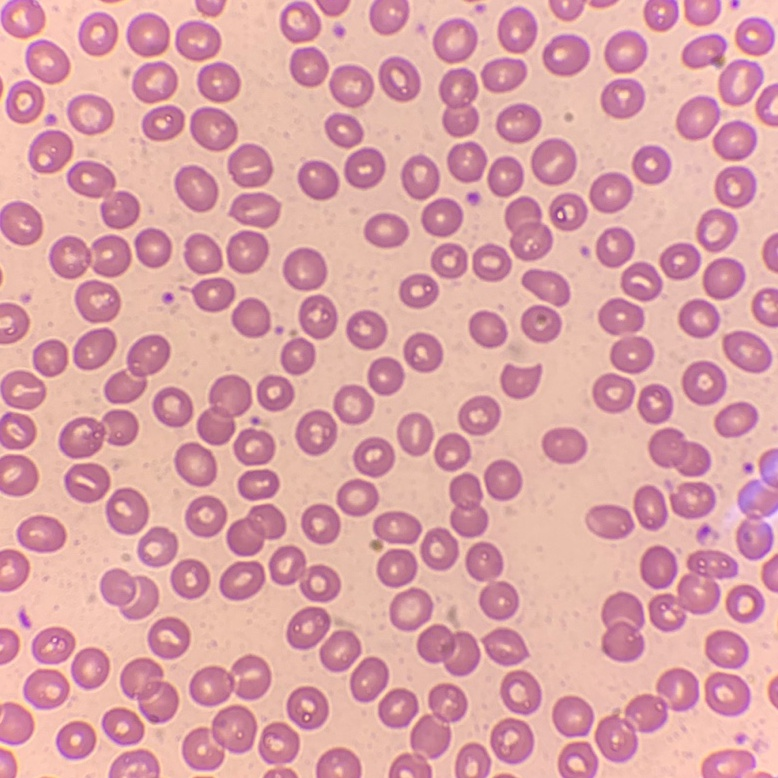RBC: (595, 668, 698, 762), (649, 550, 737, 631), (67, 161, 139, 228), (182, 705, 256, 770), (104, 335, 169, 403), (737, 449, 777, 559), (189, 655, 270, 706), (411, 683, 466, 757), (269, 546, 339, 601), (120, 658, 178, 723), (59, 410, 137, 458), (197, 375, 251, 444), (49, 235, 130, 278), (417, 625, 479, 676), (226, 504, 285, 555), (648, 428, 710, 476), (601, 592, 644, 661), (505, 196, 551, 260), (100, 569, 158, 619), (439, 68, 478, 136), (449, 473, 487, 537), (531, 139, 576, 184), (719, 59, 763, 105), (190, 107, 237, 150), (722, 331, 771, 372), (174, 165, 217, 211), (105, 488, 148, 534), (25, 39, 69, 83), (676, 95, 720, 139), (682, 361, 726, 405), (705, 673, 750, 716), (433, 19, 477, 62), (28, 130, 72, 173), (228, 144, 272, 187), (75, 280, 120, 322), (543, 34, 589, 75), (371, 511, 420, 549), (126, 13, 169, 56), (329, 65, 373, 107), (491, 719, 533, 763), (132, 61, 177, 102), (0, 202, 42, 245), (283, 248, 326, 290), (287, 607, 330, 649), (175, 20, 220, 60), (67, 94, 112, 134), (296, 410, 336, 455), (23, 669, 68, 709), (390, 588, 432, 630), (175, 443, 216, 486), (287, 686, 328, 729), (379, 57, 419, 101), (501, 670, 541, 714), (64, 463, 109, 502), (17, 516, 65, 552), (696, 209, 737, 251), (227, 231, 268, 273), (703, 258, 745, 299), (73, 328, 115, 369), (148, 617, 189, 659), (197, 62, 240, 102), (713, 120, 756, 160), (496, 103, 540, 142), (498, 7, 536, 52), (0, 371, 45, 409), (219, 562, 264, 600), (605, 31, 646, 72), (344, 147, 385, 188), (590, 172, 632, 212), (78, 12, 117, 55), (601, 79, 644, 118), (401, 155, 439, 199), (350, 657, 388, 701), (230, 193, 279, 227), (523, 269, 569, 305), (280, 1, 320, 42), (715, 166, 756, 206), (185, 496, 226, 536), (320, 630, 360, 671), (259, 722, 299, 763), (458, 396, 500, 435), (299, 295, 337, 338), (610, 335, 653, 373), (705, 630, 748, 668), (0, 0, 44, 37), (598, 298, 643, 334), (670, 482, 715, 518), (553, 696, 593, 736), (5, 81, 43, 123), (420, 528, 458, 570), (640, 545, 677, 588), (447, 142, 486, 182), (298, 160, 338, 199), (346, 310, 386, 349), (333, 385, 373, 424), (153, 387, 192, 427), (354, 437, 394, 476), (421, 198, 462, 236), (678, 299, 719, 337), (593, 374, 634, 412), (484, 628, 526, 665), (586, 505, 633, 538), (542, 428, 586, 463), (633, 485, 667, 530), (138, 527, 177, 566), (378, 689, 417, 728), (596, 227, 634, 267), (621, 262, 661, 300), (71, 648, 109, 688), (0, 455, 37, 496), (102, 708, 143, 745), (482, 58, 526, 92), (632, 145, 670, 184), (232, 298, 270, 337), (404, 333, 442, 372), (301, 504, 339, 543), (171, 559, 209, 598), (479, 582, 518, 620), (484, 460, 521, 500), (337, 479, 377, 516), (142, 105, 184, 140), (715, 402, 757, 437), (397, 413, 432, 455), (32, 628, 74, 663), (364, 213, 407, 247), (682, 34, 726, 67), (56, 721, 94, 759), (736, 17, 775, 54), (290, 47, 327, 86), (184, 234, 221, 273), (521, 305, 560, 342), (377, 549, 416, 586), (660, 243, 700, 279), (465, 542, 502, 580), (726, 585, 764, 622), (135, 228, 171, 267), (702, 750, 754, 777), (234, 429, 274, 464), (549, 193, 586, 230), (473, 244, 510, 281), (367, 357, 403, 395), (488, 157, 523, 196), (558, 742, 597, 777), (193, 278, 234, 311), (469, 311, 506, 347), (434, 433, 470, 470), (369, 0, 408, 34), (399, 274, 438, 308), (638, 384, 672, 423), (109, 750, 158, 777), (0, 703, 32, 744), (501, 365, 540, 398), (316, 748, 360, 777), (257, 375, 293, 410), (0, 413, 35, 449), (325, 113, 362, 147), (280, 337, 314, 374), (33, 340, 67, 376), (431, 244, 466, 278), (0, 550, 29, 591), (238, 470, 278, 499), (456, 743, 490, 777), (0, 303, 28, 343), (644, 0, 678, 30), (389, 754, 431, 777), (752, 288, 777, 326), (684, 0, 721, 25), (756, 84, 777, 126), (549, 0, 584, 20), (0, 628, 18, 663), (762, 556, 777, 591), (763, 234, 777, 271), (317, 0, 348, 15), (195, 0, 221, 16), (0, 751, 15, 777), (696, 525, 711, 540), (769, 679, 777, 705), (509, 343, 521, 358), (467, 192, 480, 204), (591, 0, 612, 6), (281, 769, 295, 777), (333, 26, 343, 36), (45, 115, 55, 124), (447, 610, 456, 620), (163, 293, 172, 302), (743, 463, 752, 472), (20, 617, 28, 625), (730, 0, 740, 6), (265, 772, 275, 777)
